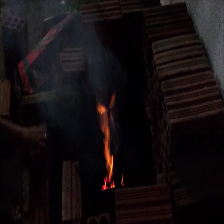fire_h: (97, 94, 116, 191)
fire_l: (120, 175, 124, 186)
